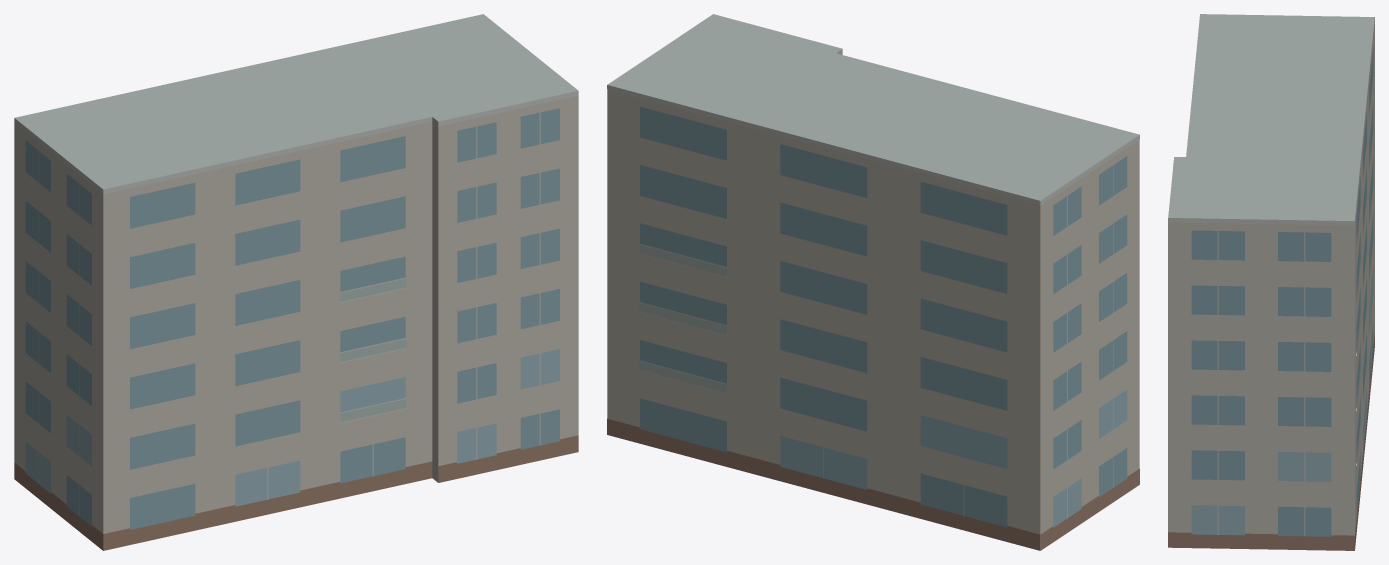
The model's file is survey-upis-32995317.glb.
3 renders of one model, left to right at view 1: azimuth 30°, elevation 25°; view 2: azimuth 150°, elevation 25°; view 3: azimuth 270°, elevation 25°, orthographic. The views are drawn at different scales.
Parts seen in each view (by area): view 1: survey-upis-32995317.tmp; view 2: survey-upis-32995317.tmp; view 3: survey-upis-32995317.tmp.
Boxes of the visible parts, x1=… form: survey-upis-32995317.tmp: x1=14, y1=14, x2=578, y2=550; survey-upis-32995317.tmp: x1=607, y1=14, x2=1139, y2=550; survey-upis-32995317.tmp: x1=1168, y1=14, x2=1374, y2=550.
Bounding box in the file's own units: 24.66 × 18.3 × 10.41.
